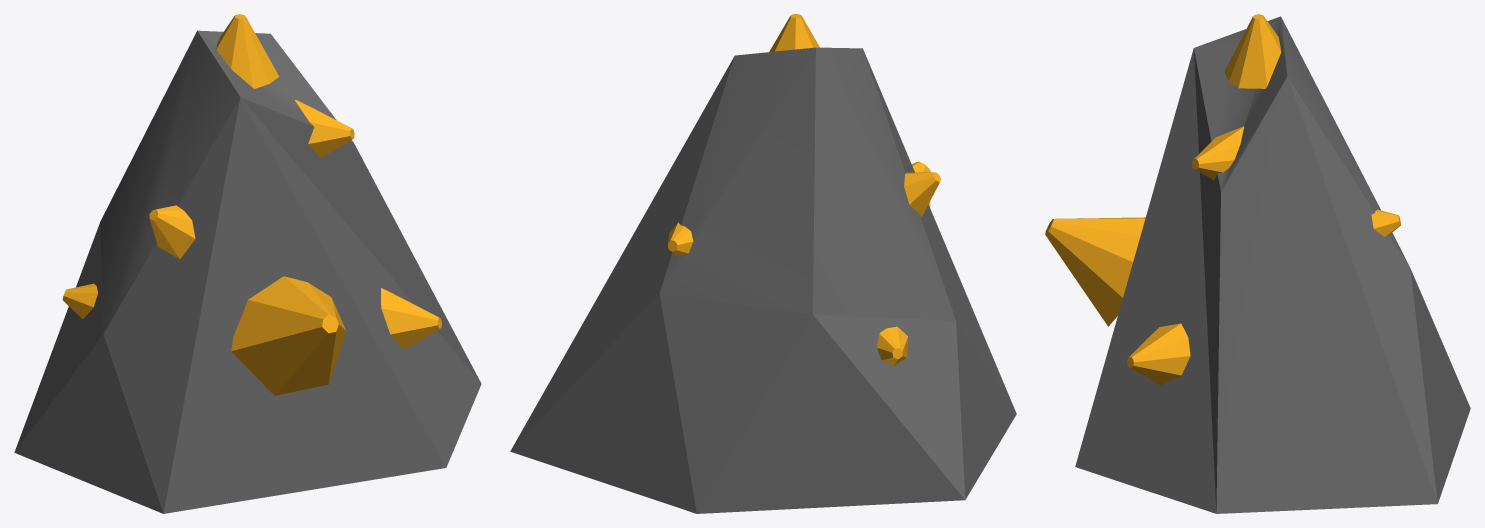
Rendered from Ore_Node_Gold_01.fbx.
3 views of the same model, side by side, from view 1: azimuth 30°, elevation 25°; view 2: azimuth 150°, elevation 25°; view 3: azimuth 270°, elevation 25° (orthographic). The views are drawn at different scales.
Visible parts, largest first — view 1: Ore_Node_Gold_01; view 2: Ore_Node_Gold_01; view 3: Ore_Node_Gold_01.
Boxes of the visible parts, <box> form: Ore_Node_Gold_01: <box>14,14,481,513</box>; Ore_Node_Gold_01: <box>510,14,1016,513</box>; Ore_Node_Gold_01: <box>1045,14,1470,513</box>.
Bounding box in the file's own units: 25.81 × 27.25 × 23.54.
